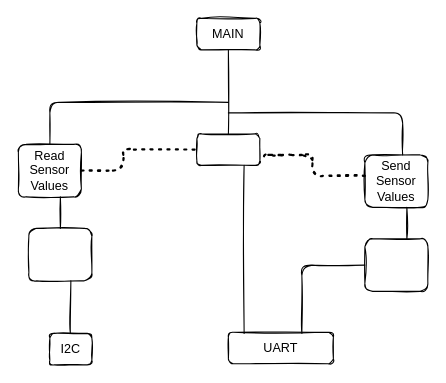
Some shapes in this 446 by 383 pixel diagram are drawn without their labels. The shapes that lost their labels are listed below. From the top down, each one's box as (x1, y1, x2, y2) in pixels, then its label:
(196, 133, 260, 165): CLI
(28, 227, 92, 281): Sensor Driver
(364, 238, 428, 291): LoRa Driver
